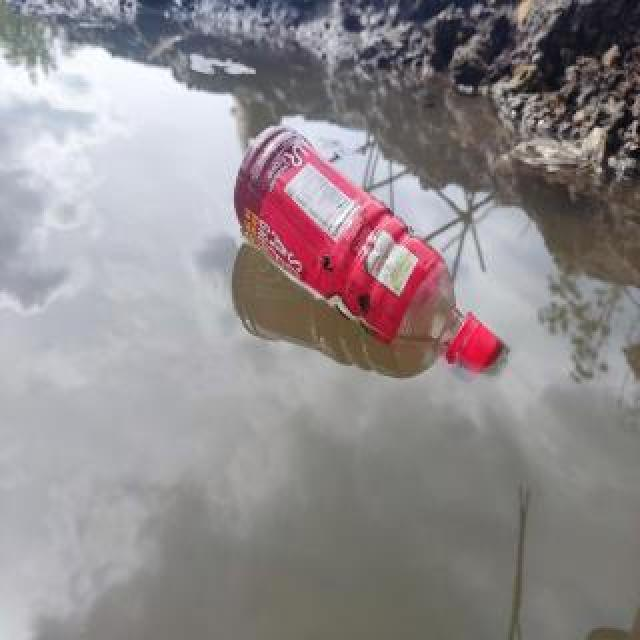bottle: (228, 116, 506, 378)
